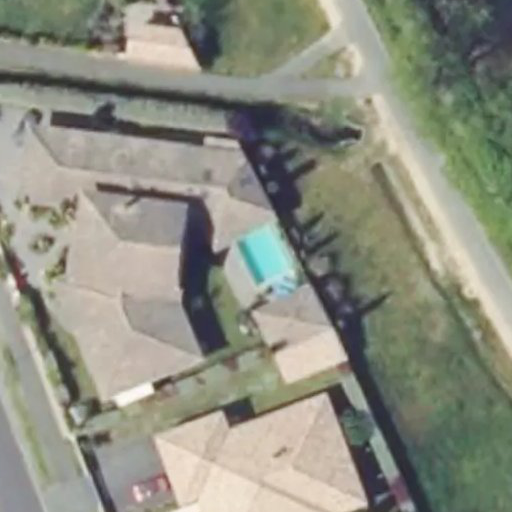pool: (238, 224, 291, 288)
